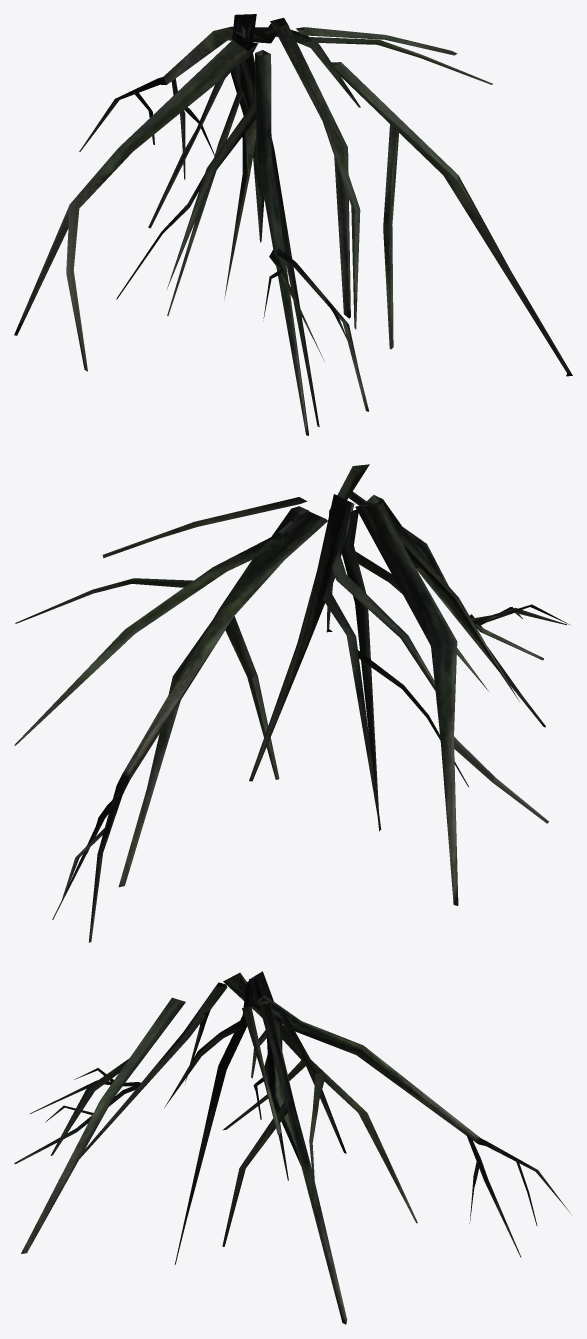
Rendered from pir_m_prp_cav_treeRoots_c.fbx.
3 views of the same model, one above another, from view 1: azimuth 30°, elevation 25°; view 2: azimuth 150°, elevation 25°; view 3: azimuth 270°, elevation 25° (orthographic). The views are drawn at different scales.
Visible parts, largest first — view 1: branch1, branch5, branch3, branch2, branch4, branch7, branch6; view 2: branch2, branch3, branch4, branch5, branch1, branch6, branch7; view 3: branch5, branch2, branch1, branch4, branch3, branch6, branch7.
Part boxes in pixels (x1,y1,x2,y2): branch1: (167,50,572,435); branch5: (224,17,360,426); branch3: (14,40,258,371); branch2: (163,24,492,107); branch4: (116,14,264,315); branch7: (263,248,368,411); branch6: (79,77,214,179); branch2: (14,497,327,782); branch3: (355,502,548,905); branch4: (249,494,468,829); branch5: (118,506,488,887); branch1: (326,464,545,727); branch6: (52,774,129,942); branch7: (469,604,569,660); branch5: (164,981,347,1324); branch2: (242,995,480,1223); branch1: (21,982,227,1253); branch4: (249,971,300,1180); branch3: (222,972,346,1153); branch6: (466,1134,571,1257); branch7: (14,1068,140,1164).
Size of the model in its own units: 8455 by 6623 by 11560.
Materials: 1 (1 with a texture image).
